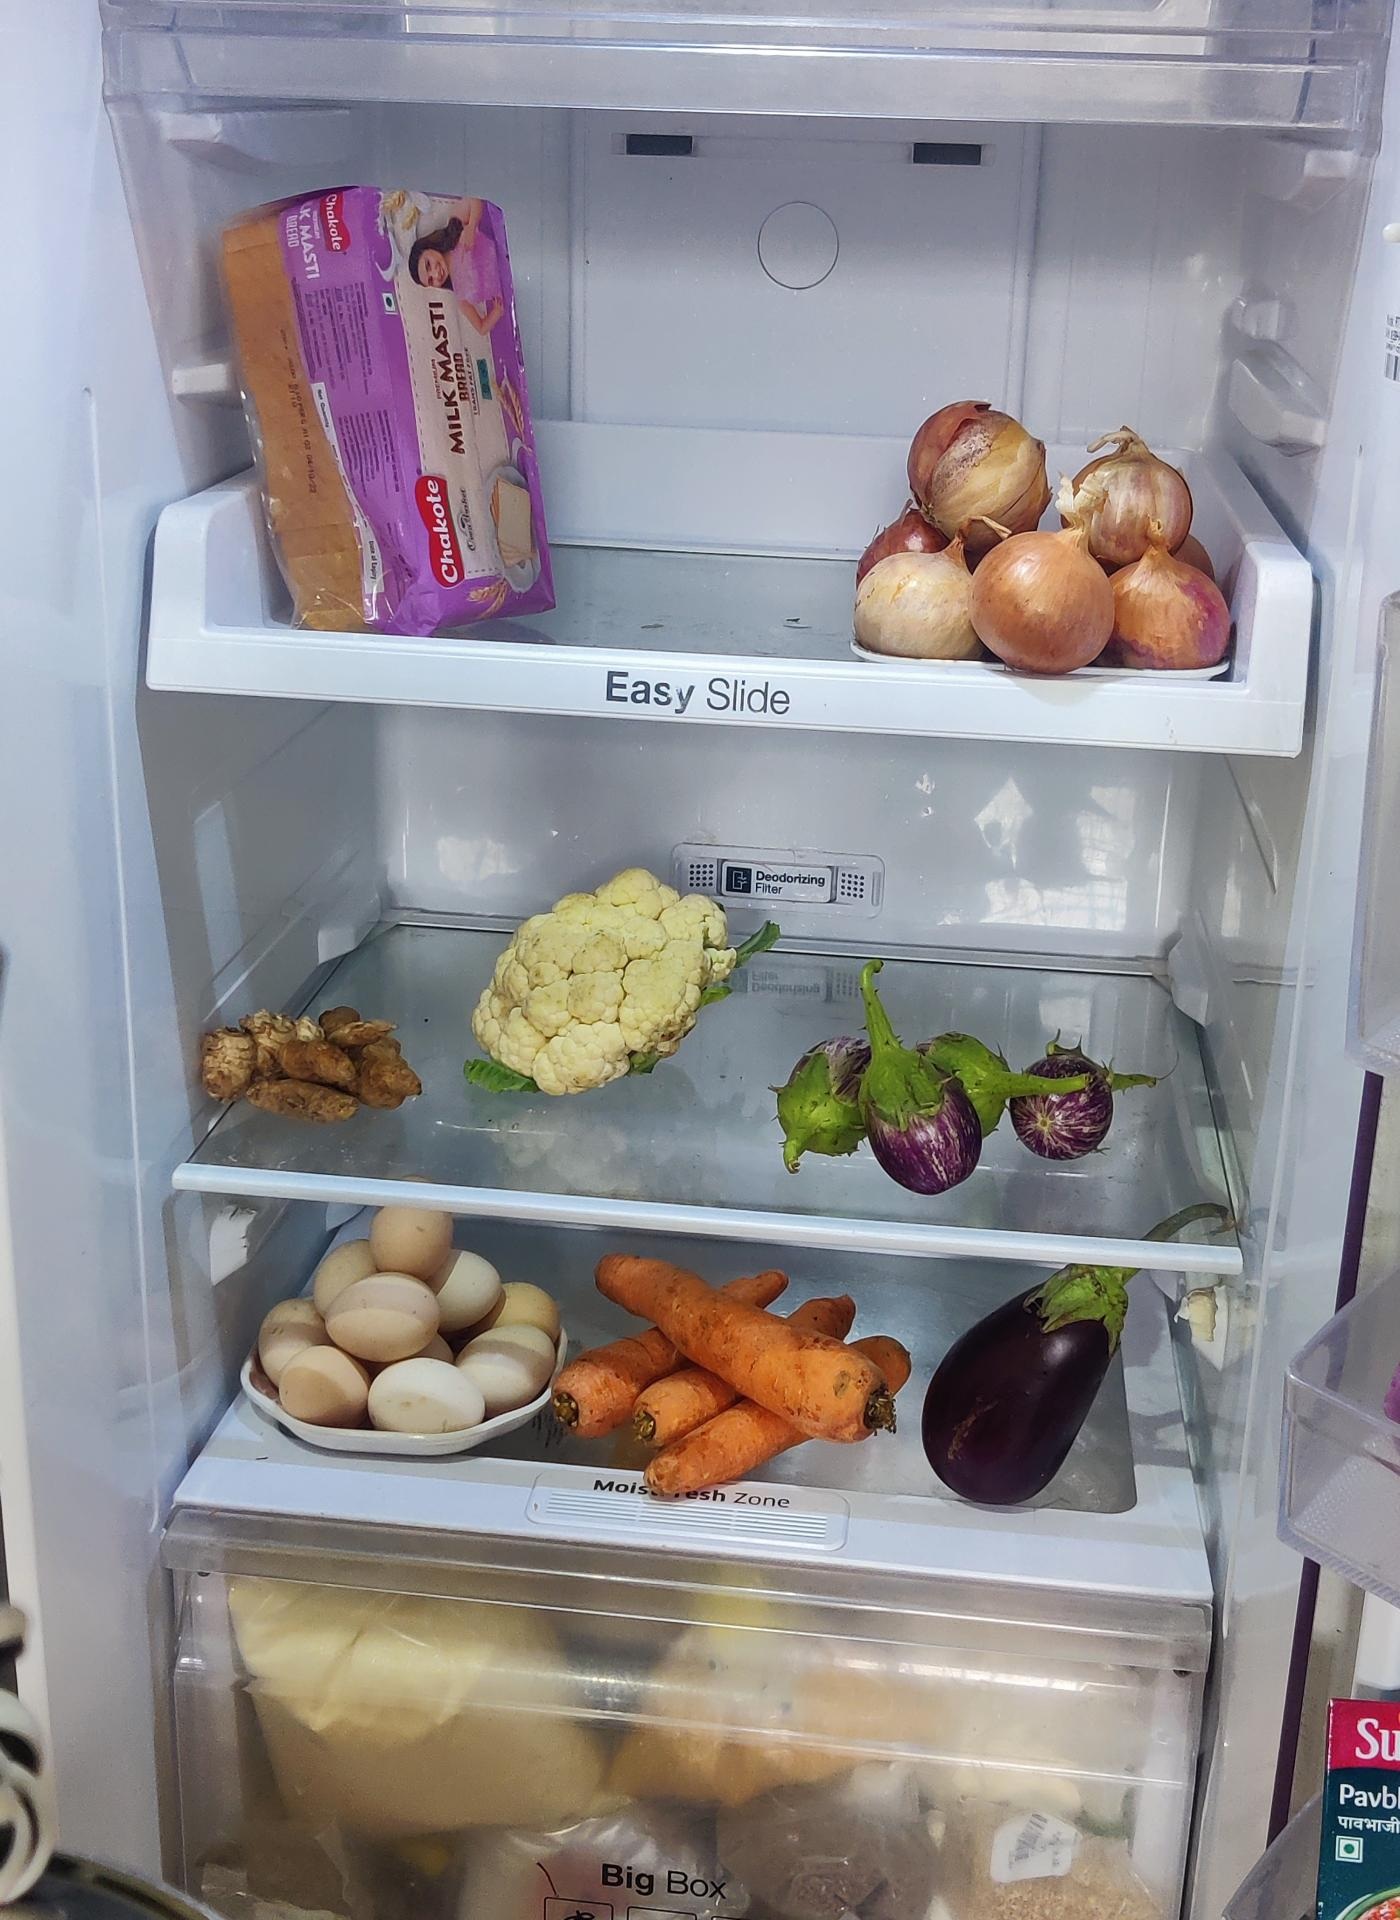bread: (212, 180, 571, 640)
brinjal: (796, 1005, 1118, 1194), (930, 1269, 1118, 1492)
carrots: (568, 1248, 924, 1492)
cauliflower: (476, 874, 741, 1102)
egg: (246, 1196, 562, 1433)
ginger: (194, 1003, 423, 1125)
onion: (847, 407, 1236, 681)
